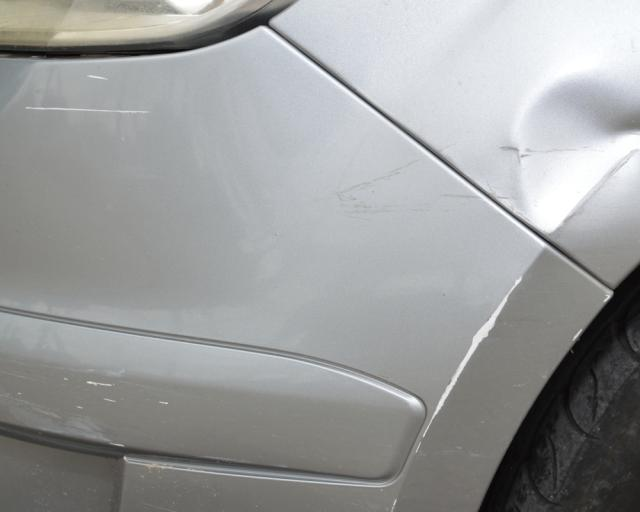dent: (518, 71, 640, 230)
scratch: (414, 271, 529, 460), (0, 358, 182, 443), (23, 62, 165, 119)
